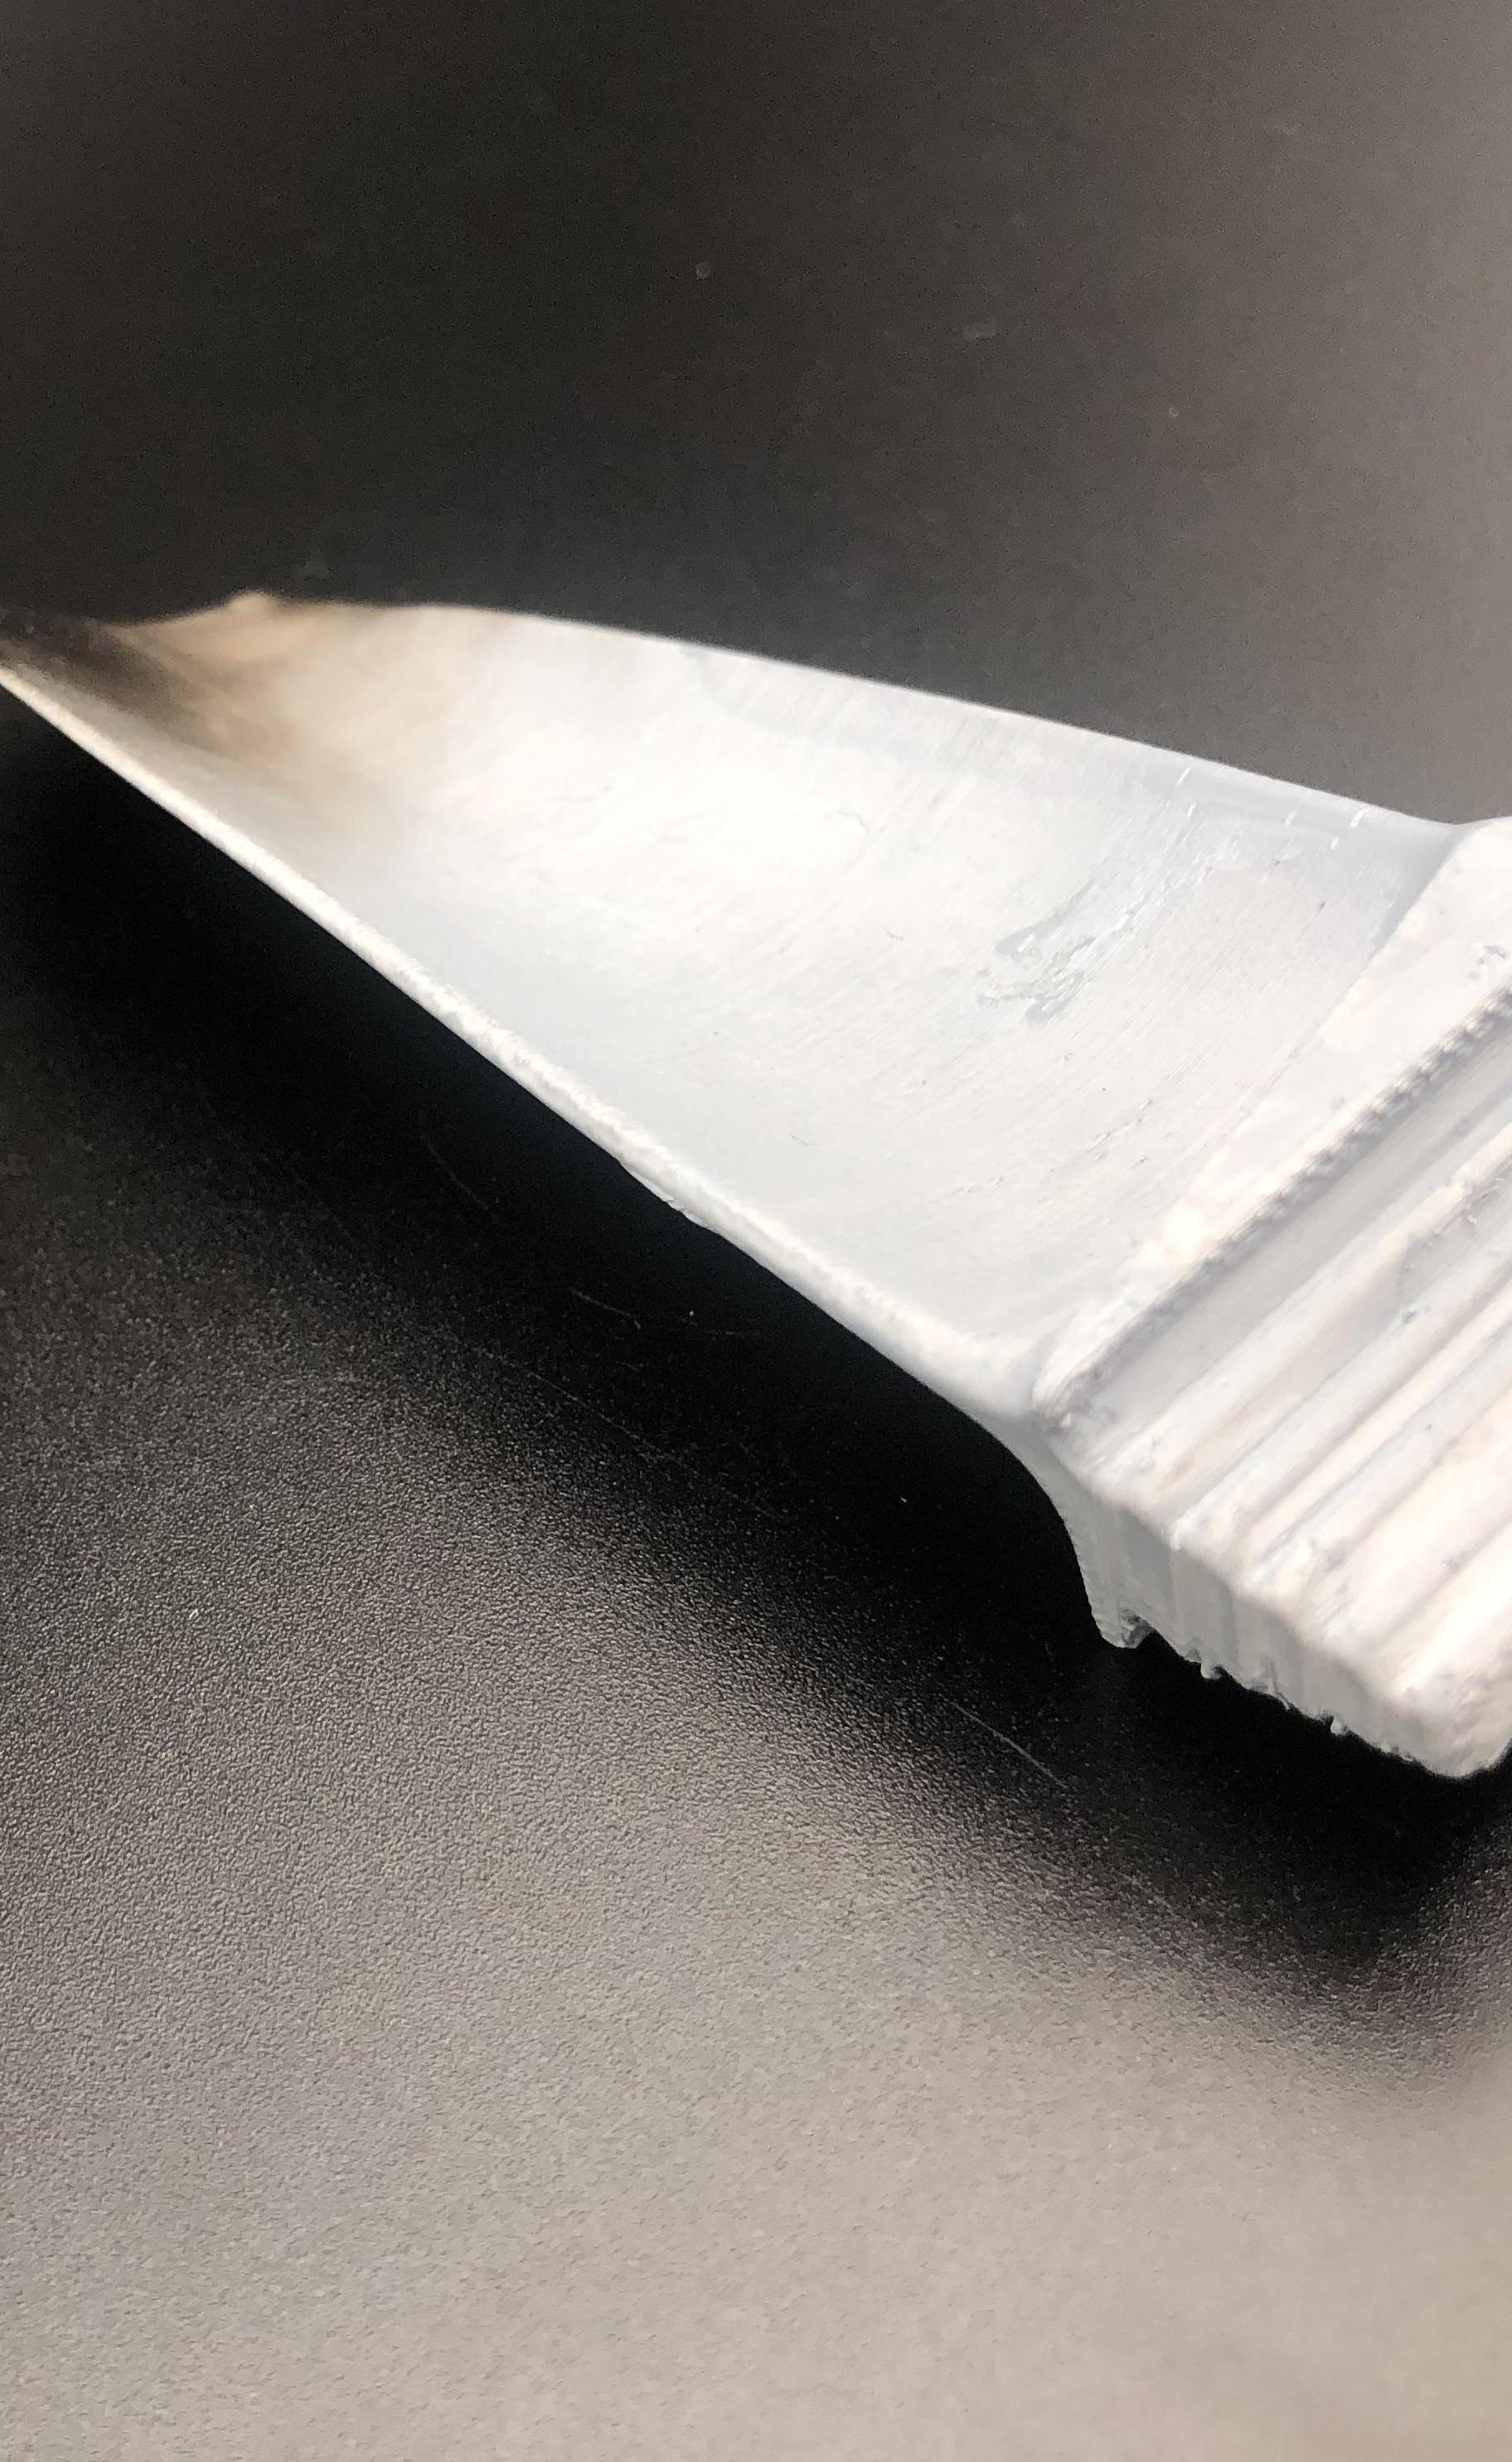ablation: (33, 601, 378, 781)
